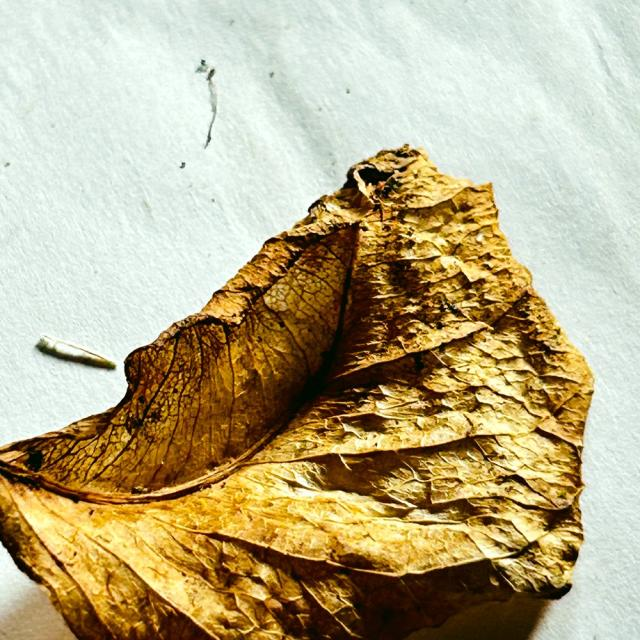DryLeaf_Lemon: (0, 146, 593, 639)
